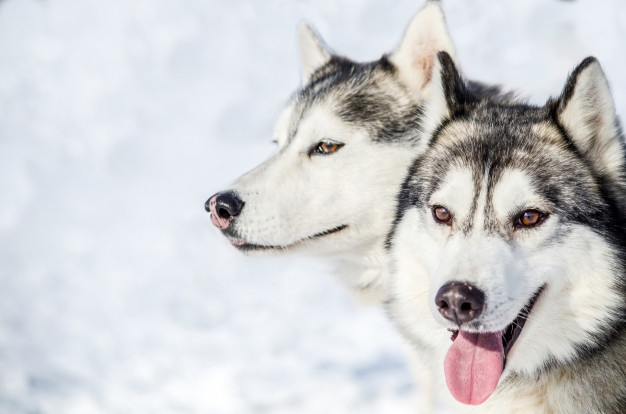husky: (366, 48, 626, 397)
